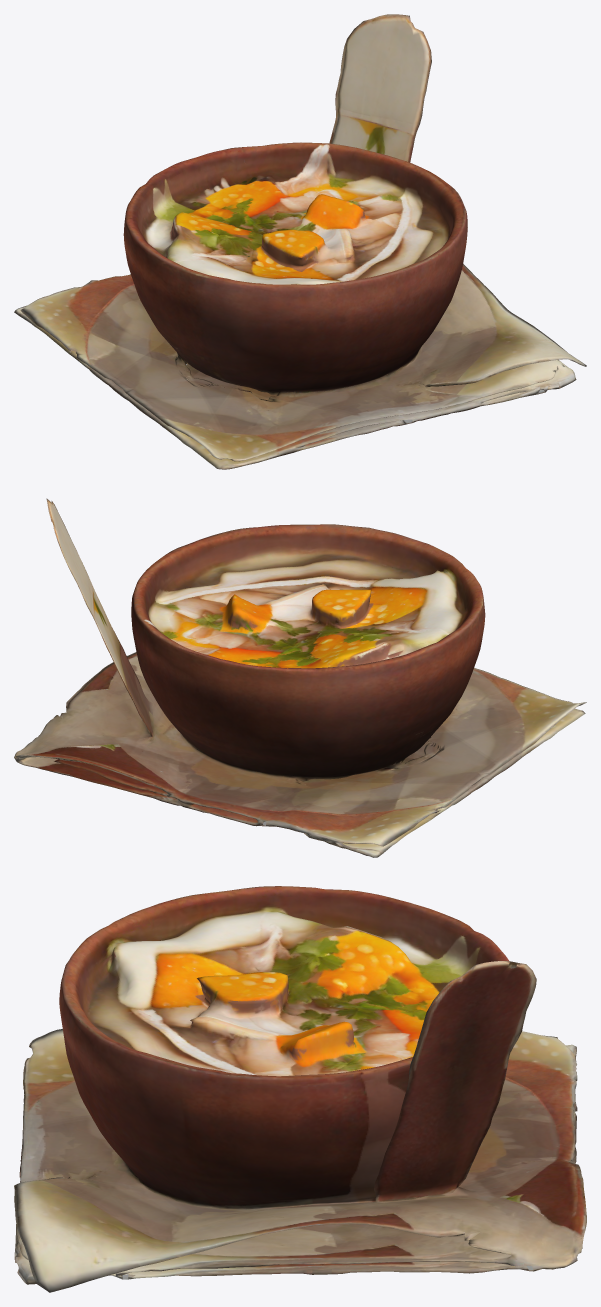
The model's file is Ajiaco.glb.
The picture shows the model from 3 angles, top to bottom: view 1: azimuth 30°, elevation 25°; view 2: azimuth 150°, elevation 25°; view 3: azimuth 270°, elevation 25°; orthographic projection. The views are drawn at different scales.
Bounding box in the file's own units: 2 × 1.23 × 1.95.
1 material, 1 textured.
